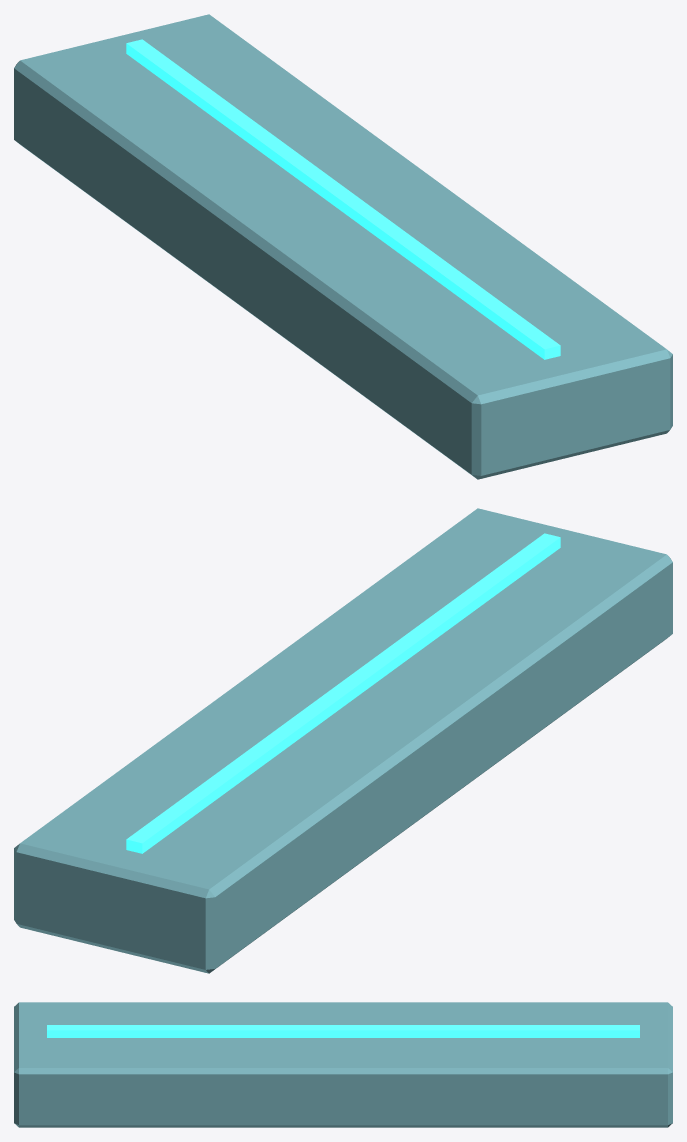
The model's file is Plataforma_Estreita.fbx.
The picture shows the model from 3 angles, top to bottom: view 1: azimuth 30°, elevation 25°; view 2: azimuth 150°, elevation 25°; view 3: azimuth 270°, elevation 25°; orthographic projection. The views are drawn at different scales.
Parts seen in each view (by area): view 1: Plataforma_Estreita; view 2: Plataforma_Estreita; view 3: Plataforma_Estreita.
Part boxes in pixels (x1=…): Plataforma_Estreita: x1=14, y1=14, x2=672, y2=479; Plataforma_Estreita: x1=14, y1=508, x2=672, y2=973; Plataforma_Estreita: x1=14, y1=1002, x2=672, y2=1127.
Bounding box in the file's own units: 1 × 0.45 × 4.
